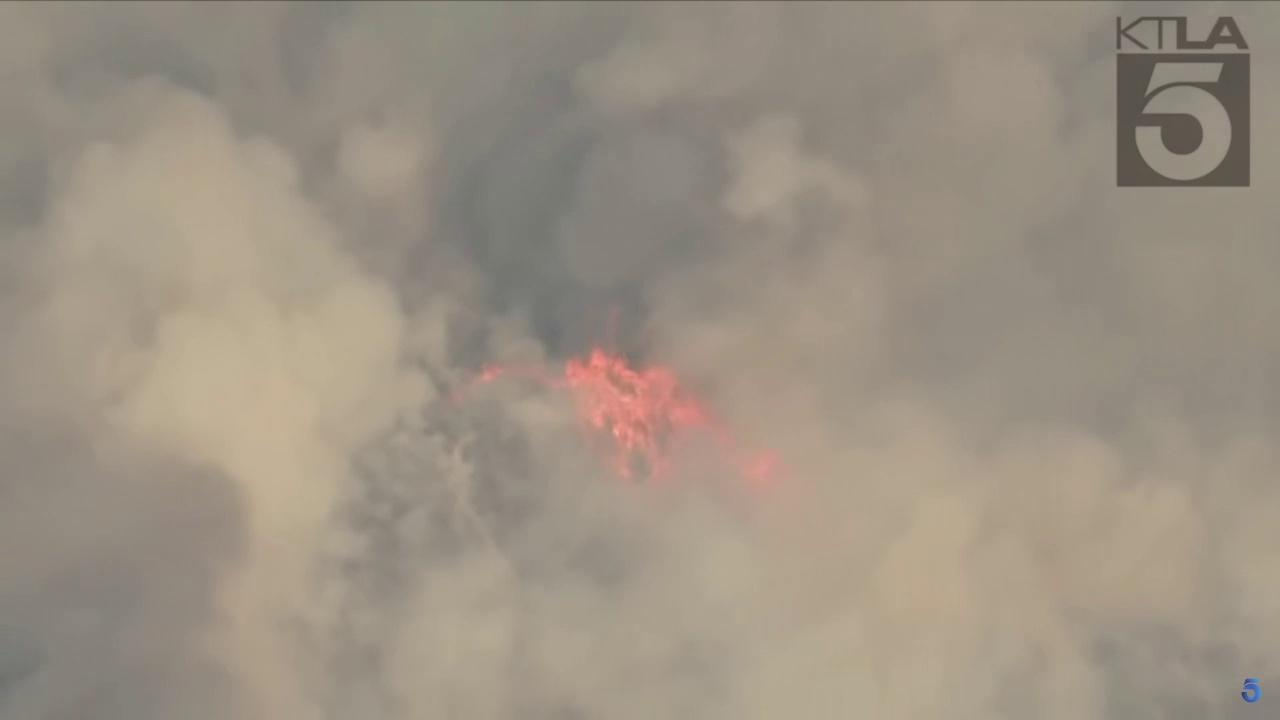fire: (479, 344, 787, 488)
smoke: (0, 0, 1280, 720)
